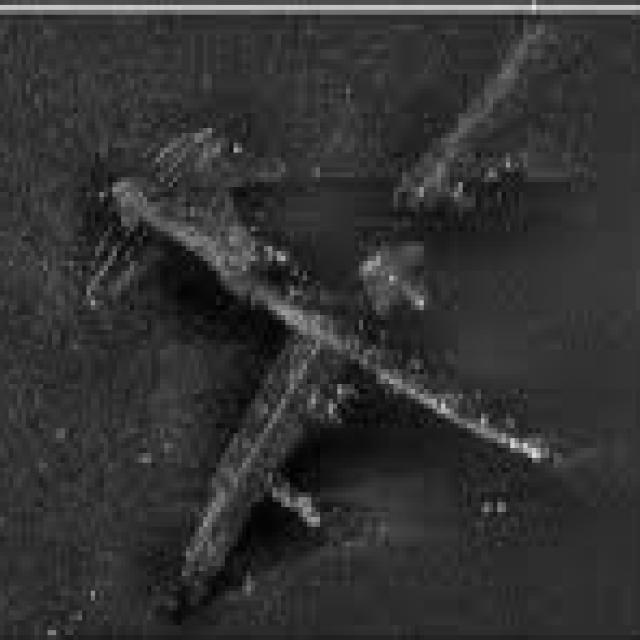plane: (52, 94, 597, 596)
